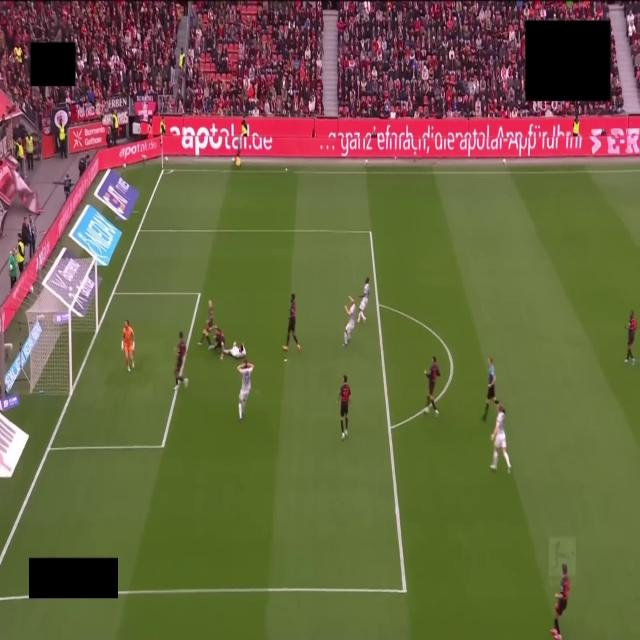player: (490, 405, 511, 472), (551, 564, 569, 639), (283, 294, 300, 351), (238, 360, 253, 420), (425, 357, 440, 415), (338, 376, 350, 439), (175, 332, 188, 389), (198, 300, 213, 348), (121, 320, 134, 371), (625, 311, 636, 365), (344, 296, 355, 346), (357, 278, 369, 322), (210, 327, 224, 359), (223, 343, 246, 359)
referee: (483, 358, 498, 421)
